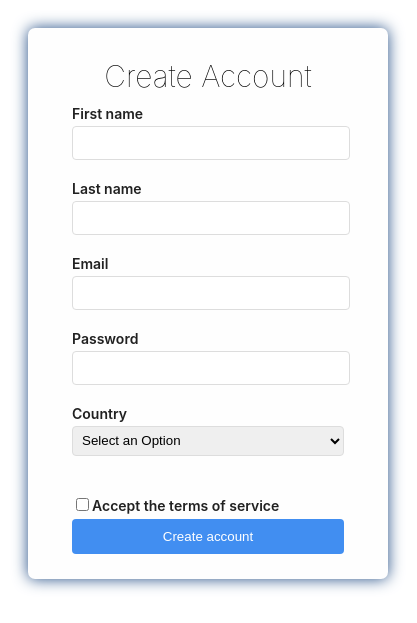
<CreateAccountForm> › Can't submit empty form
This screenshot has width=417, height=623.
Click the button. click: (208, 537)
box: [72, 519, 344, 554]
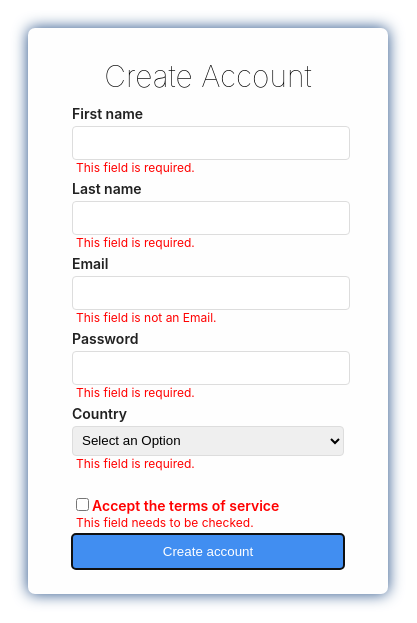
expect the number of elements with test id "errorMessage" is 6: met, box [76, 160, 195, 175]; [76, 235, 195, 250]; [76, 310, 217, 325]; [76, 385, 195, 400]; [76, 456, 195, 471]; [76, 515, 254, 530]
